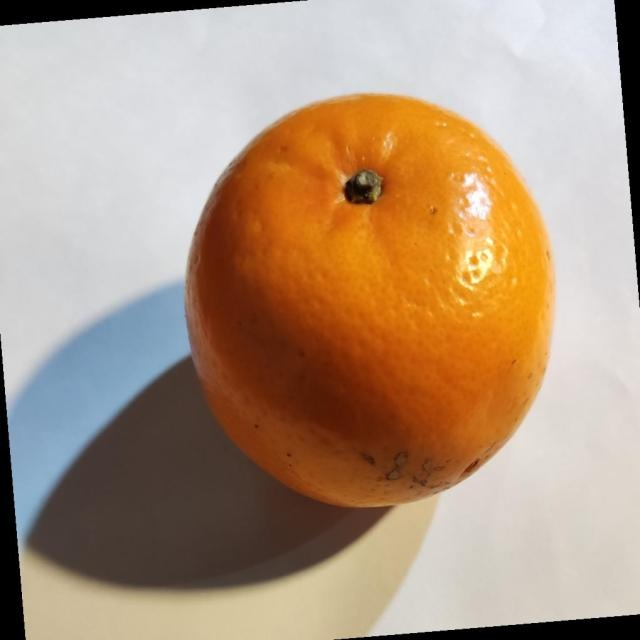agrume: (183, 91, 557, 509)
